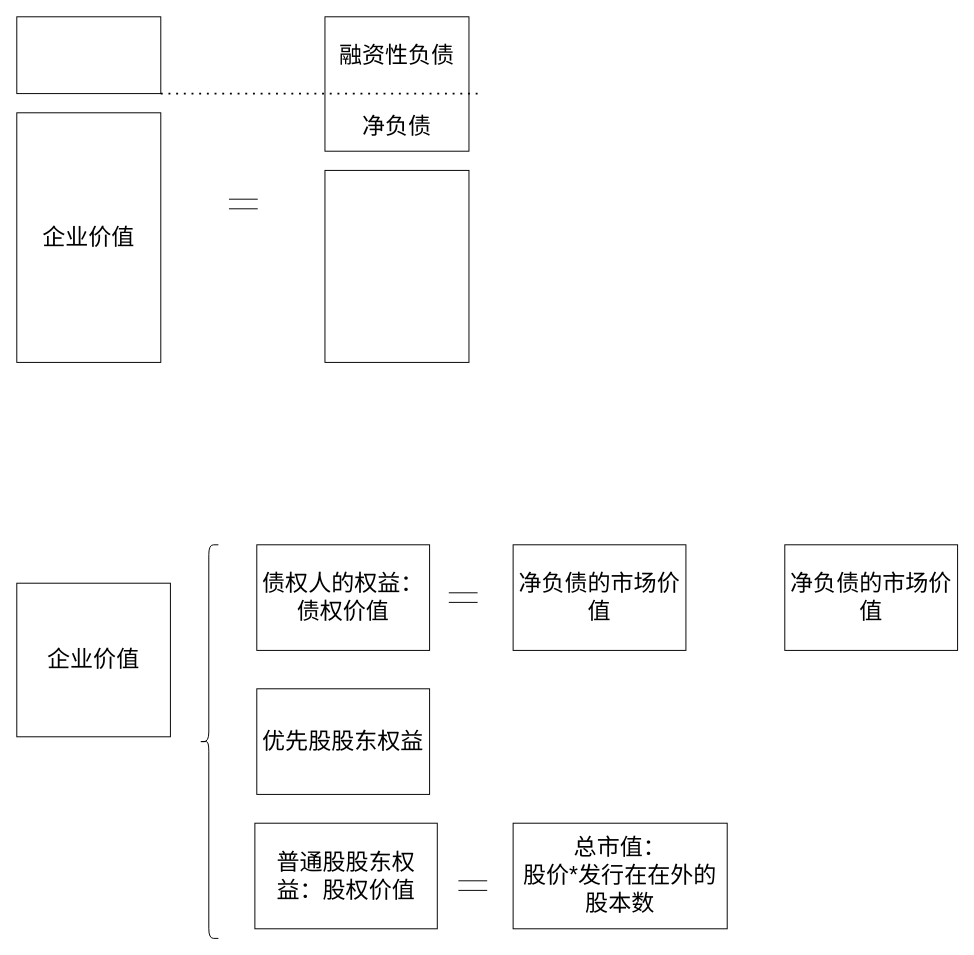
This 974x955 diagram has some shape labels left out. The centre of each missing label's shape, as x and y in pixels:
现金: point (88, 55)
股权价值: point (396, 265)
